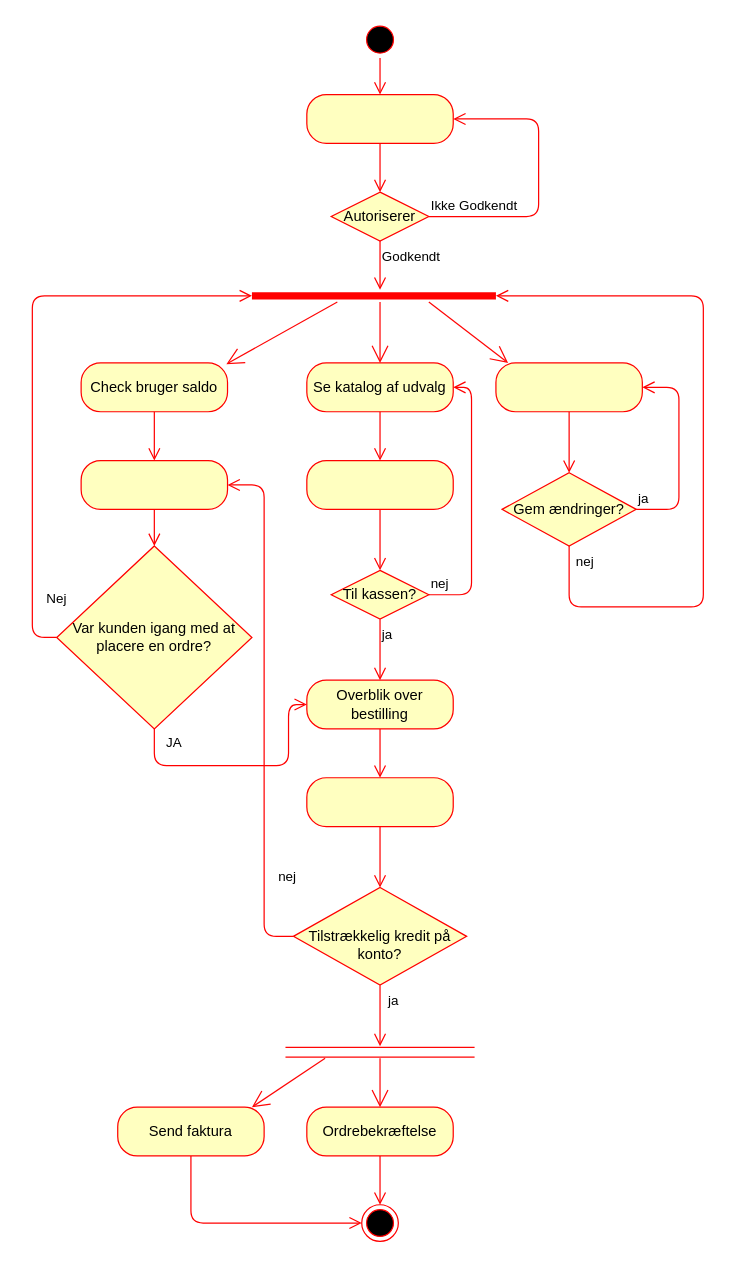
The diagram is 737 pixels wide and 1263 high, and some of its shapes have lost their labels. The centre of each missing label's shape, as x and y in pixels:
Betal med kredit: pixel 379 802
Rediger konto informationer: pixel 568 387
Registrer Bruger / Login: pixel 379 118
Tilføj kredit: pixel 154 484
Tilføj top + bund til kurv: pixel 379 484
